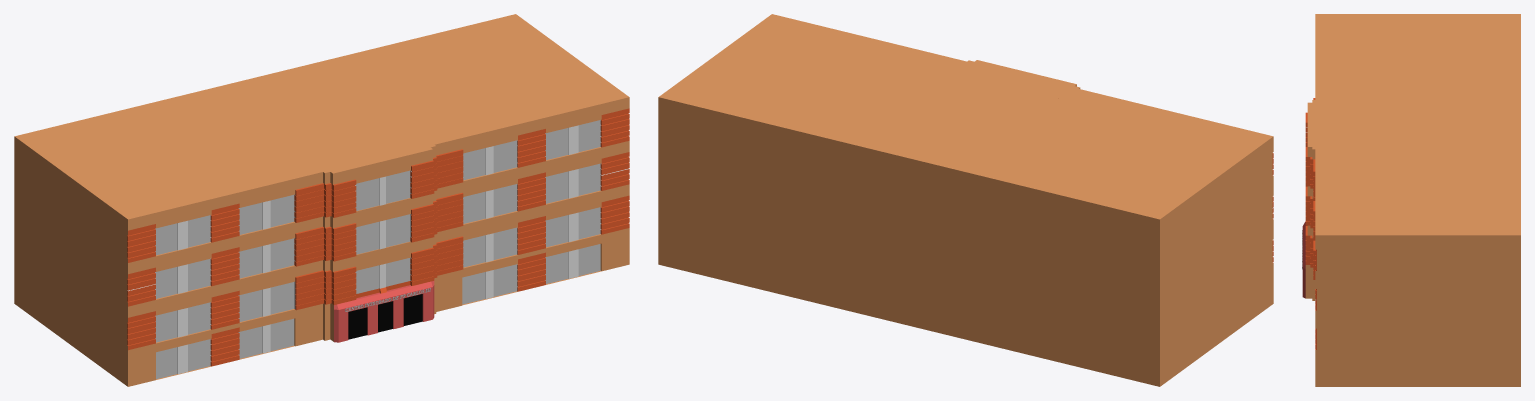
File: CIFP Carlos III.fbx
3 renders of one model, left to right at view 1: azimuth 30°, elevation 25°; view 2: azimuth 150°, elevation 25°; view 3: azimuth 270°, elevation 25°, orthographic. The views are drawn at different scales.
Parts seen in each view (by area): view 1: Cube; view 2: Cube; view 3: Cube.
Boxes of the visible parts, left/top/right/bottom form: Cube: left=14, top=14, right=629, bottom=386; Cube: left=658, top=14, right=1273, bottom=386; Cube: left=1302, top=14, right=1520, bottom=386.
Bounding box in the file's own units: 21450 × 6856 × 8963.
